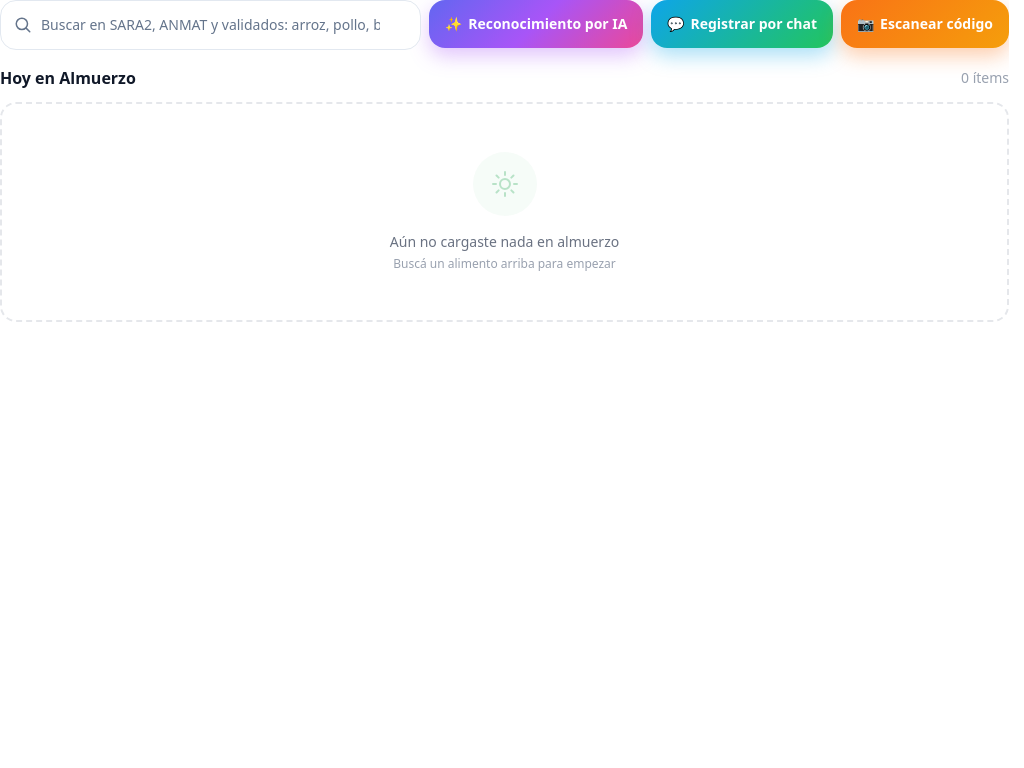
Test case: Buscador: alimentos VALIDADO (NUT-194) › un particular que elige un VALIDADO con macros ve la vista previa de kcal
In the field: (211, 25) [0, 0, 421, 50], type "arroz"
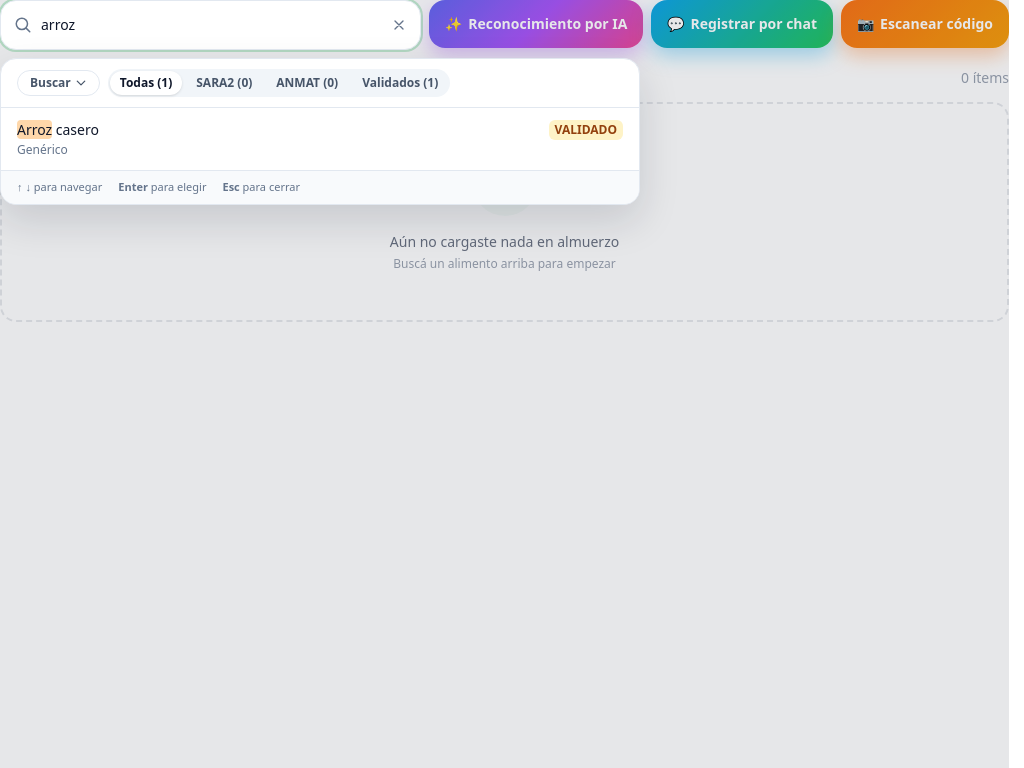
Click the element showing "Arroz casero": (58, 130) [17, 120, 99, 139]
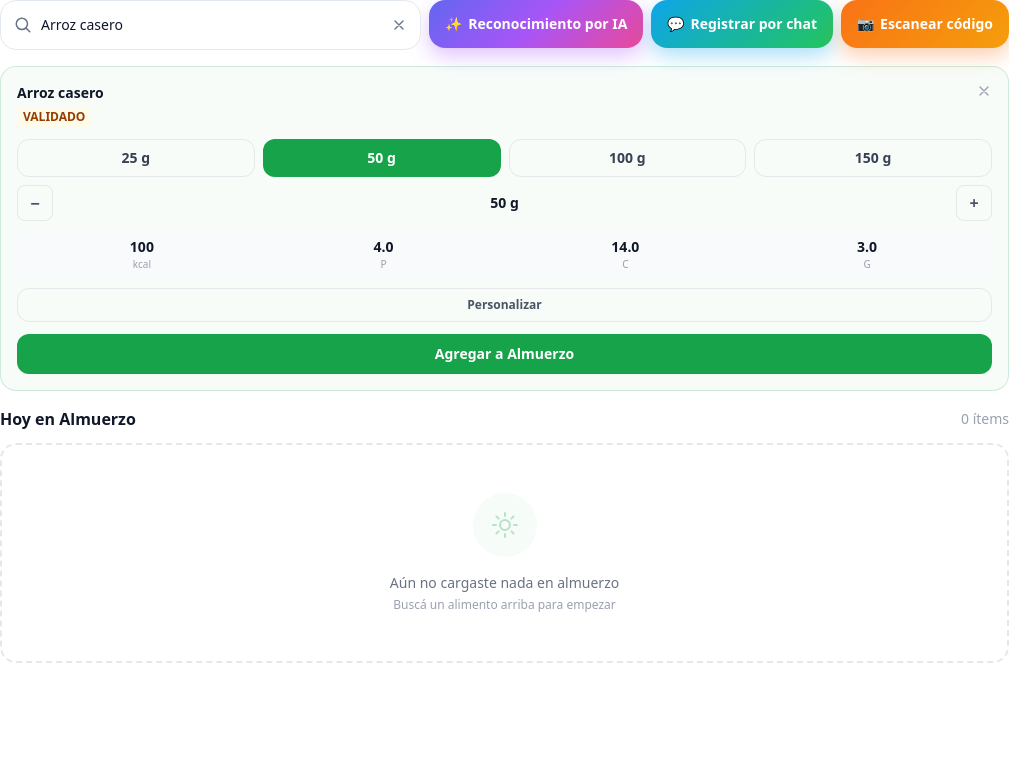
Expected: the text "kcal" is shown, [133, 257, 151, 271]
